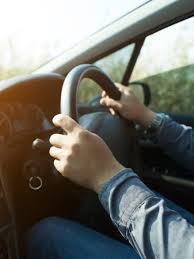Driving: (29, 47, 194, 259)
Person: (51, 114, 194, 258)
